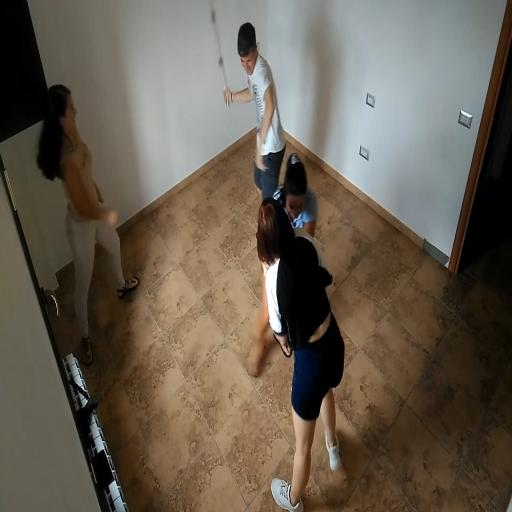violencia: (201, 0, 353, 512)
